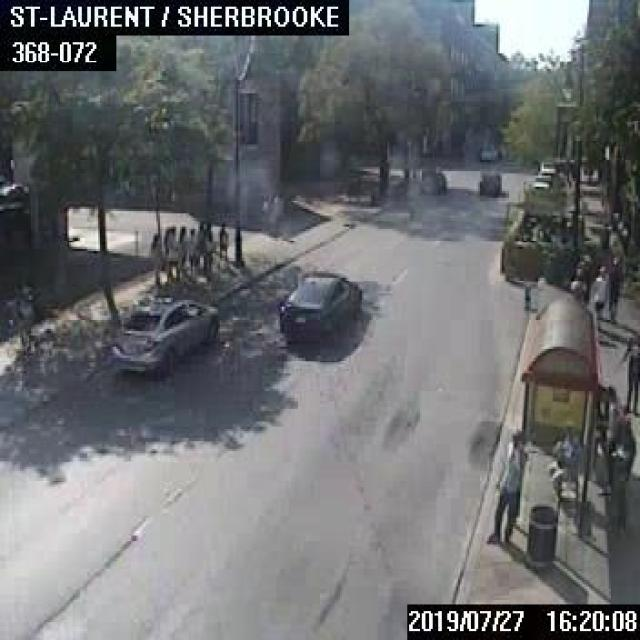construction: (368, 180, 377, 204)
pedestrian: (484, 426, 524, 544), (605, 406, 637, 526), (547, 418, 580, 498), (618, 332, 638, 413), (569, 248, 593, 306), (589, 266, 608, 329), (606, 255, 621, 322), (185, 226, 197, 280), (147, 231, 159, 284), (162, 224, 172, 280), (168, 223, 178, 277), (177, 224, 187, 276), (203, 220, 213, 272), (217, 220, 227, 264), (196, 219, 202, 262)
vehicle: (108, 293, 216, 371), (276, 269, 362, 342), (418, 162, 446, 191), (476, 169, 500, 195), (529, 172, 551, 191), (478, 142, 498, 160), (537, 158, 555, 173)
